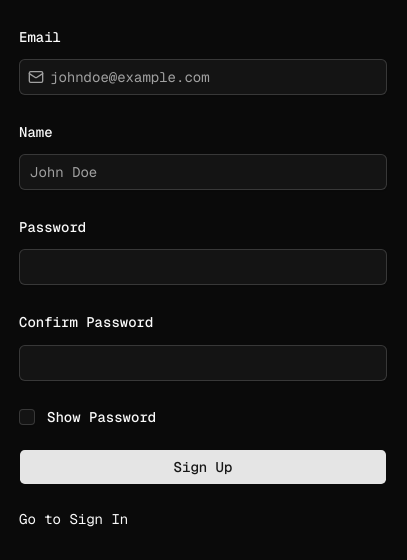
Test: SignUpForm › rejects mismatched password confirmation
Type "ada@example.com" into the field labelled "Email" at (215, 77), box top-left (44, 59), bottom-right (386, 95)
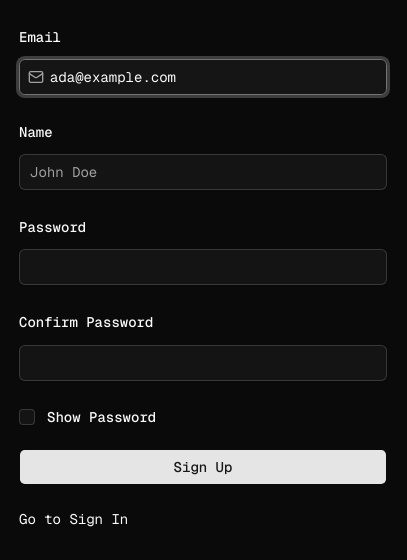
Type "Ada Lovelace" into the field labelled "Name" at (203, 172), box top-left (20, 154), bottom-right (386, 190)
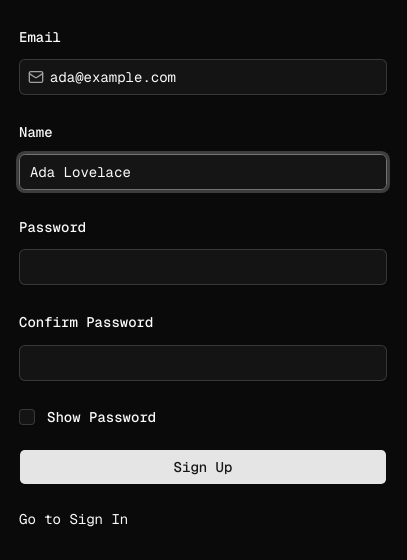
Type "secret123" into the password field labelled "Password" at (203, 267), box top-left (20, 249), bottom-right (386, 285)
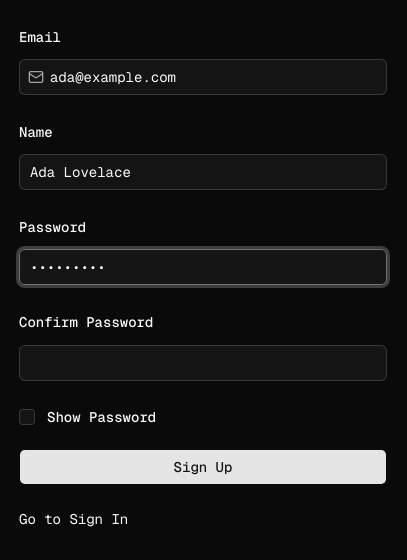
Type "different" into the password field labelled "Confirm Password" at (203, 362), box top-left (20, 344), bottom-right (386, 380)
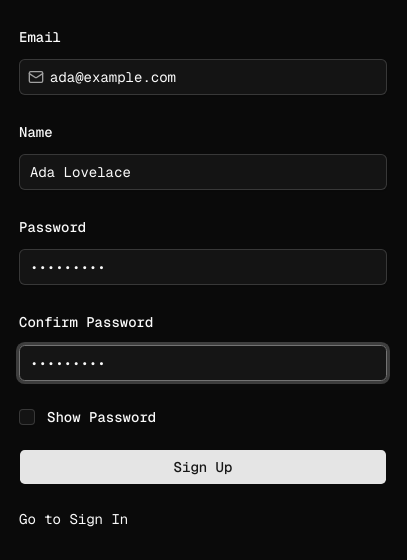
Click the button "Sign Up" at (203, 466), box top-left (19, 448), bottom-right (387, 484)
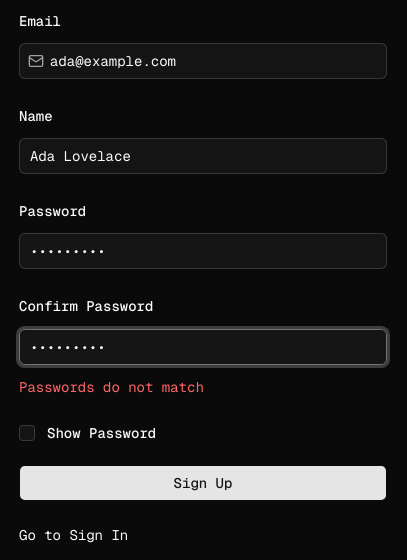
Now the text "Passwords do not match" is shown, box top-left (19, 378), bottom-right (204, 396)
